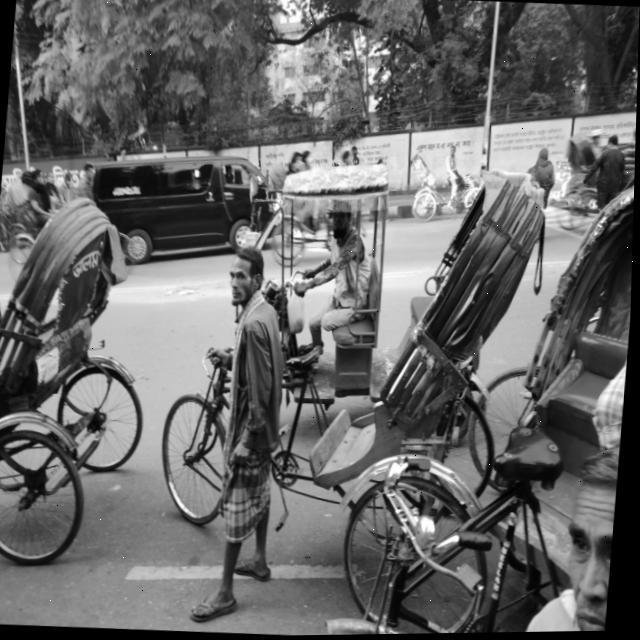rikshaw: (173, 166, 524, 543), (0, 174, 141, 588)
